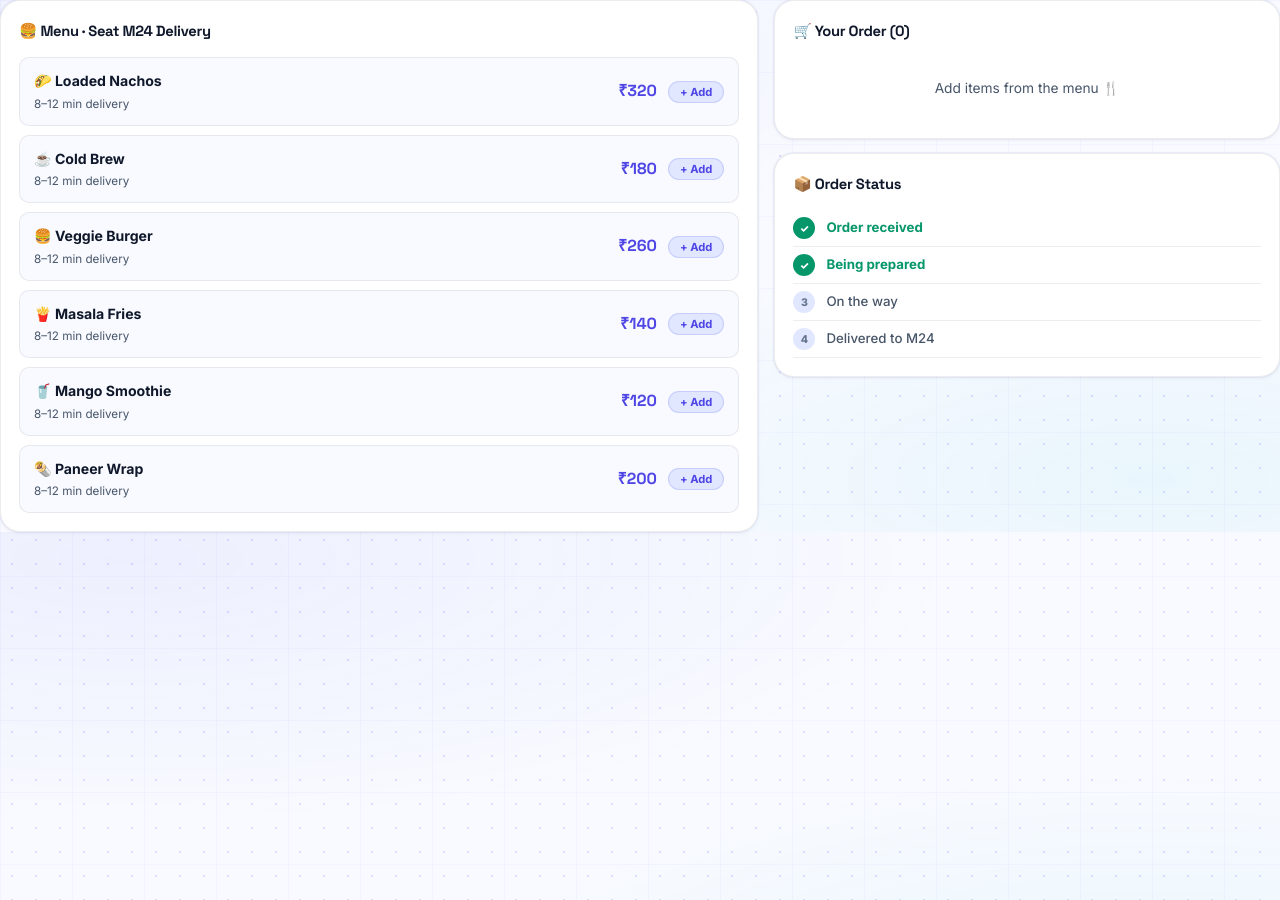
Test: FoodTab › renders menu items and adds to cart
Expected: the heading "🍔 Menu · Seat M24 Delivery" is shown, [19, 22, 211, 40]
# Add item to cart
Click the button "+ Add" next to "320".
click(696, 92)  # box [668, 80, 724, 102]
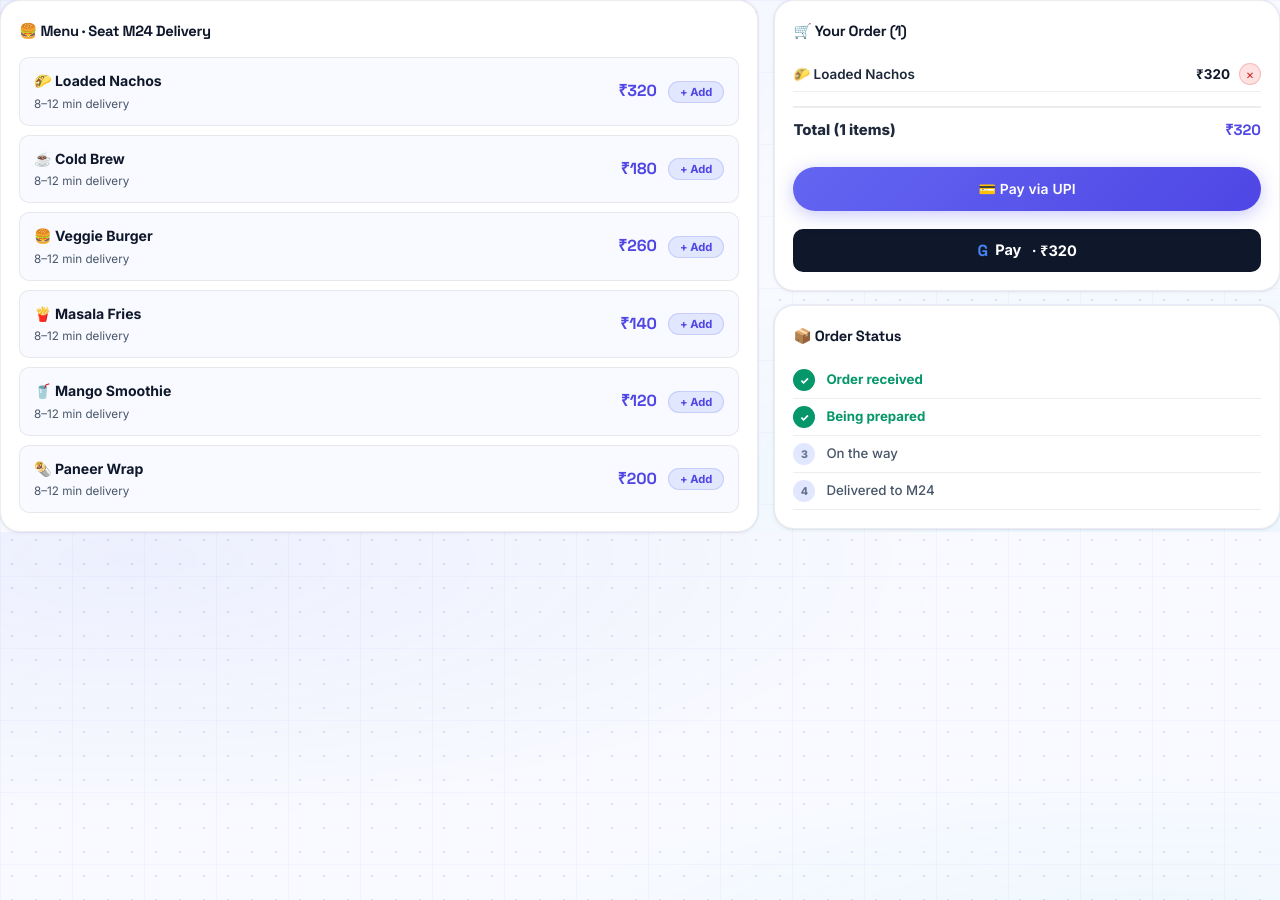
Now the heading "🛒 Your Order (1)" is shown, box [793, 22, 906, 40]
Now the button "💳 Pay via UPI" is shown, box [793, 167, 1261, 211]
